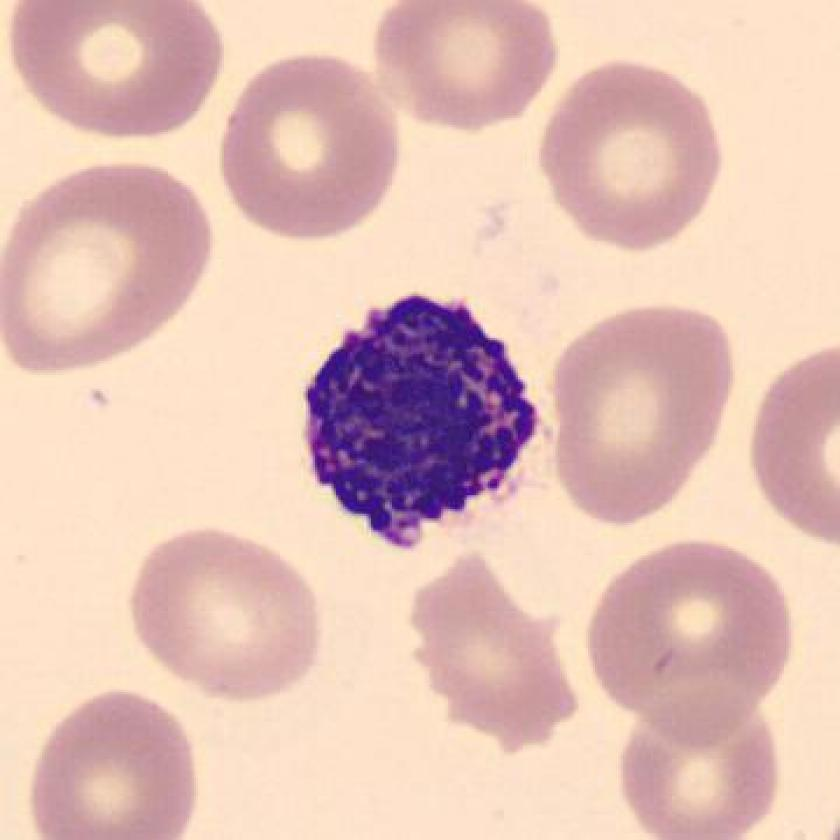basophil: (281, 269, 554, 545)
